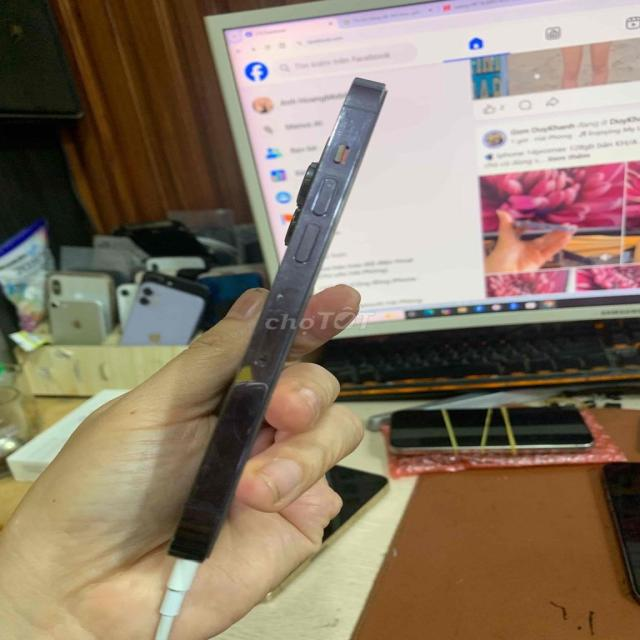scratch: (309, 91, 385, 175), (233, 410, 278, 465), (258, 276, 290, 327)
